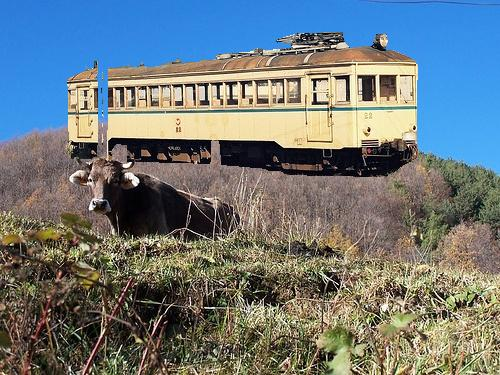tampered: (66, 33, 418, 177)
